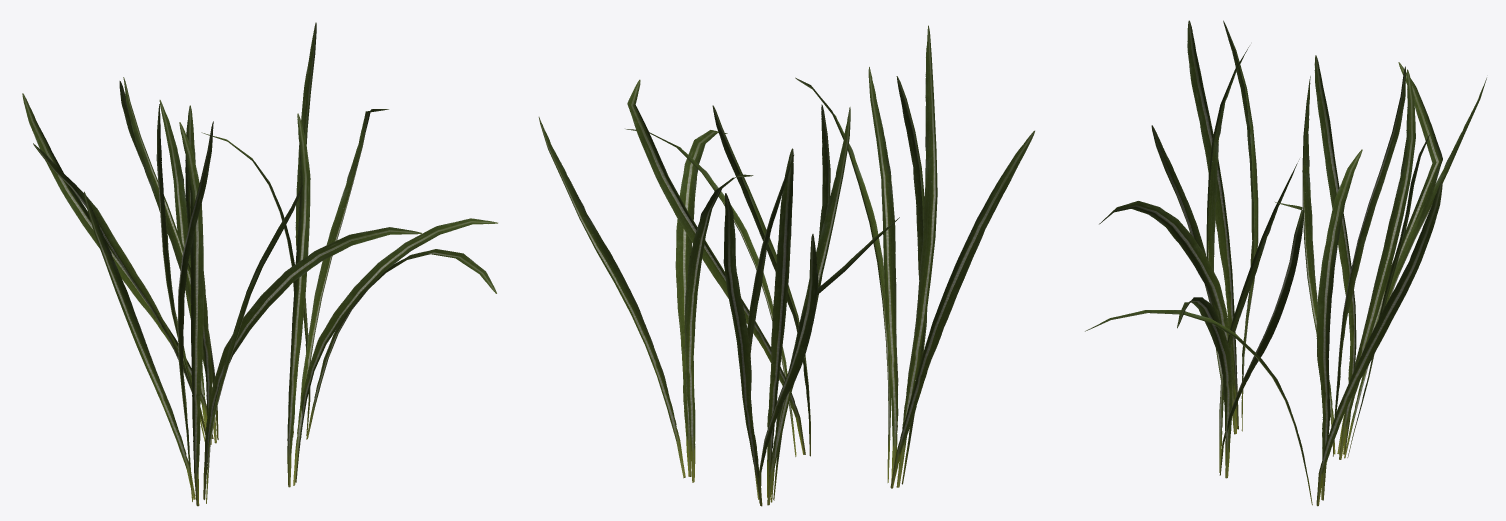
Rendered from branches.dae.
The picture shows the model from 3 angles, left to right: view 1: azimuth 30°, elevation 25°; view 2: azimuth 150°, elevation 25°; view 3: azimuth 270°, elevation 25°; orthographic projection. The views are drawn at different scales.
Visible parts, largest first — view 1: branches; view 2: branches; view 3: branches.
Boxes of the visible parts, x1,y1,x2,y2 form: branches: (22,22,497,506); branches: (538,25,1034,506); branches: (1085,20,1486,506).
Size of the model in its own units: 0.1163 by 0.1014 by 0.1117.
